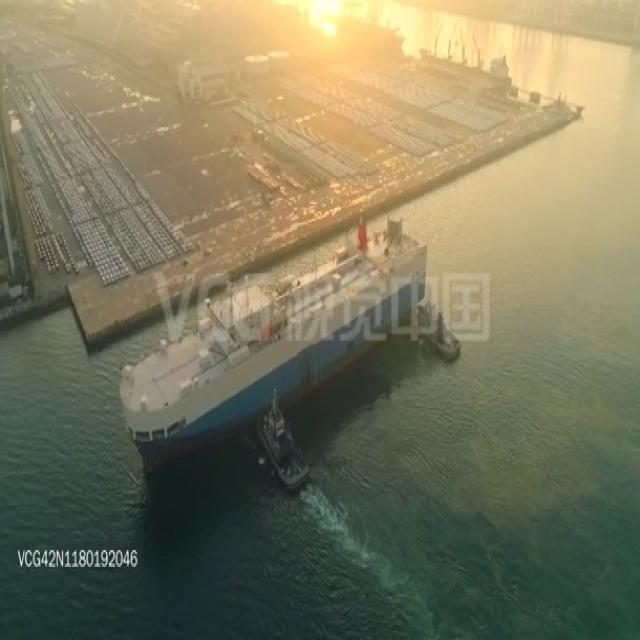cargoship: (115, 226, 426, 462)
houseboat: (260, 398, 309, 490), (413, 295, 466, 360)
